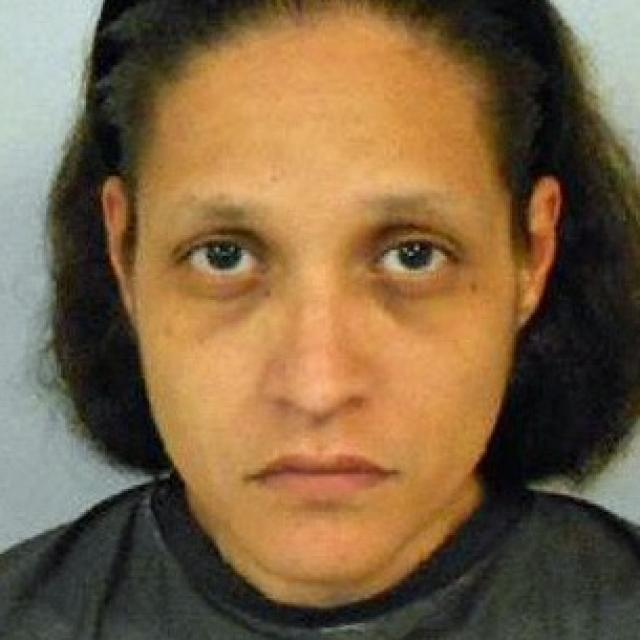Depress: (136, 19, 520, 589)
